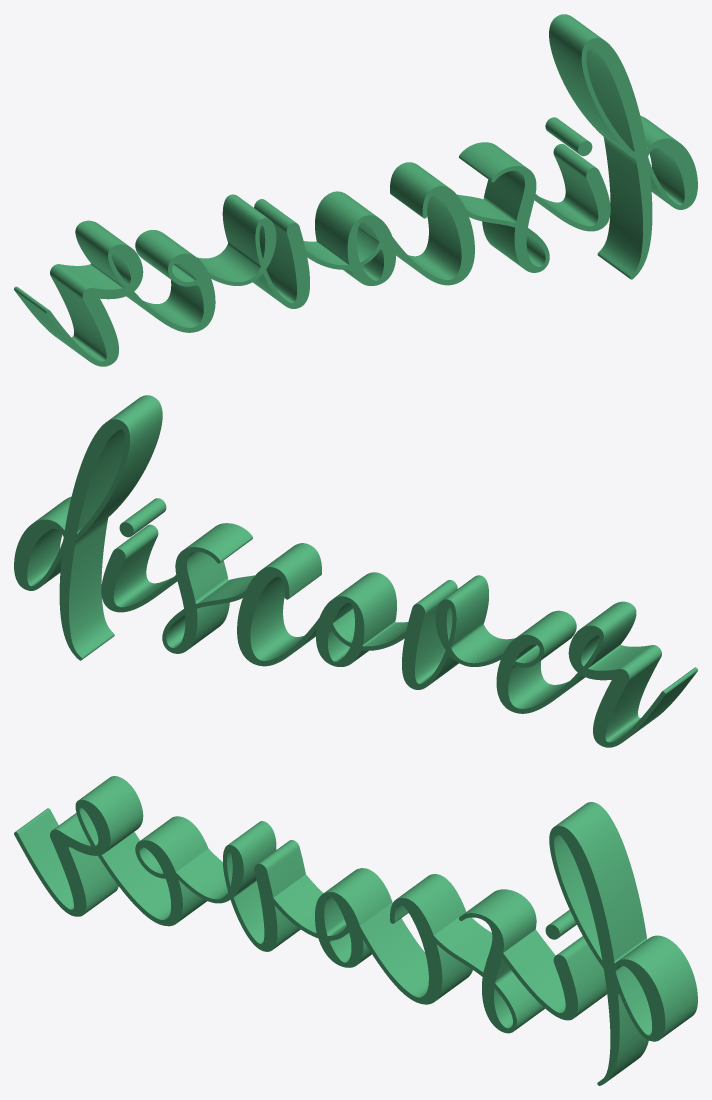
Rendered from Shadows_DiscoverWord_.fbx.
3 renders of one model, top to bottom at view 1: azimuth 30°, elevation 25°; view 2: azimuth 150°, elevation 25°; view 3: azimuth 330°, elevation 25°, orthographic.
Visible parts, largest first — view 1: dress me.098; view 2: dress me.098; view 3: dress me.098.
Part boxes in pixels (x1,y1,x2,y2): dress me.098: (14,14,697,366); dress me.098: (14,395,697,747); dress me.098: (14,776,697,1085).
Size of the model in its own units: 71.46 by 26.26 by 6.24.
